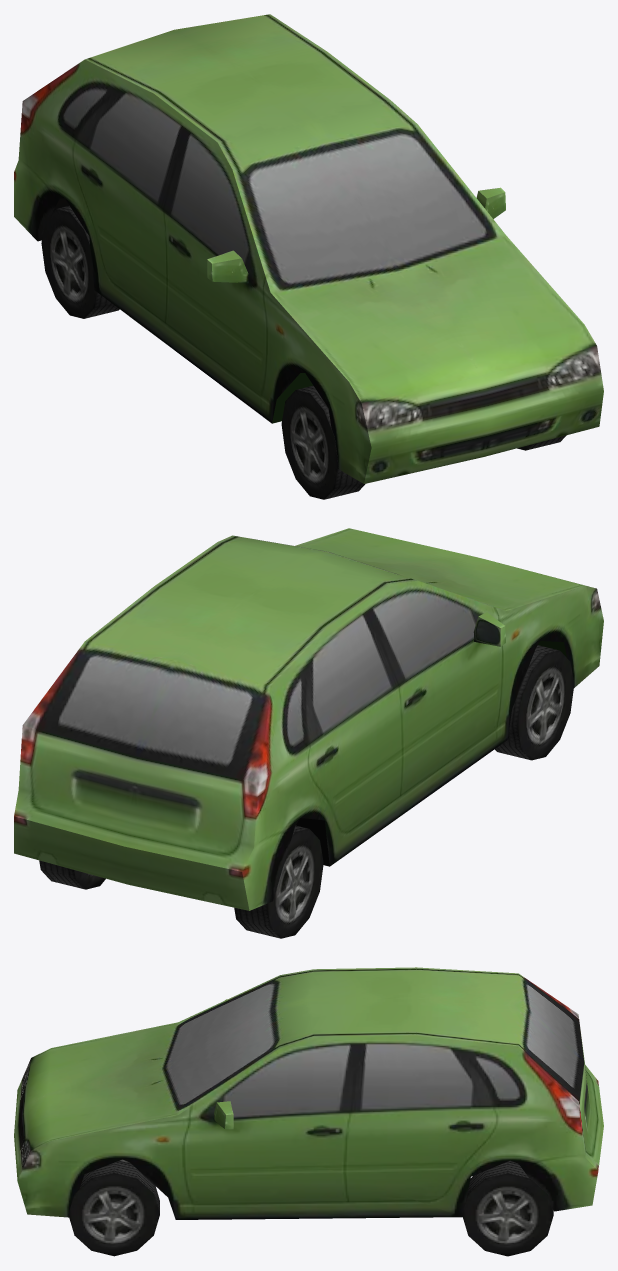
The model's file is sedan_green.glb.
3 views of the same model, one above another, from view 1: azimuth 30°, elevation 25°; view 2: azimuth 150°, elevation 25°; view 3: azimuth 270°, elevation 25° (orthographic). The views are drawn at different scales.
Visible parts, largest first — view 1: Body; view 2: Body; view 3: Body.
Part boxes in pixels (bbox=[...]): Body: bbox=[14, 14, 603, 499]; Body: bbox=[14, 528, 603, 938]; Body: bbox=[14, 967, 603, 1256].
Bounding box in the file's own units: 1.87 × 1.59 × 4.03.
2 materials, 1 textured.
